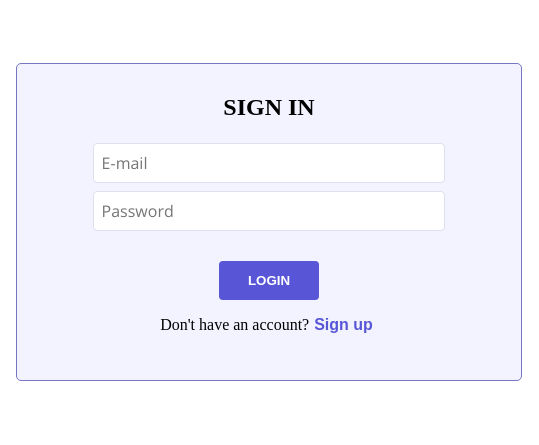
Authentication › should switch to Sign In when clicked cancel button
Step 1. Click the button "Sign up" → (344, 325), box top-left (309, 316), bottom-right (378, 334)
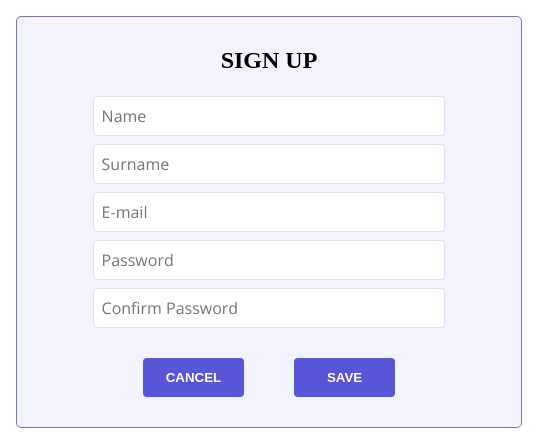
Step 2. Click the button "CANCEL" → (193, 378), box top-left (143, 358), bottom-right (244, 397)
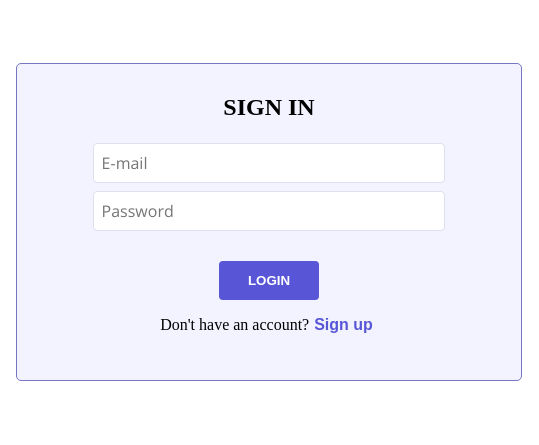
expect the heading "SIGN IN" is shown: met, box top-left (223, 94), bottom-right (315, 121)
